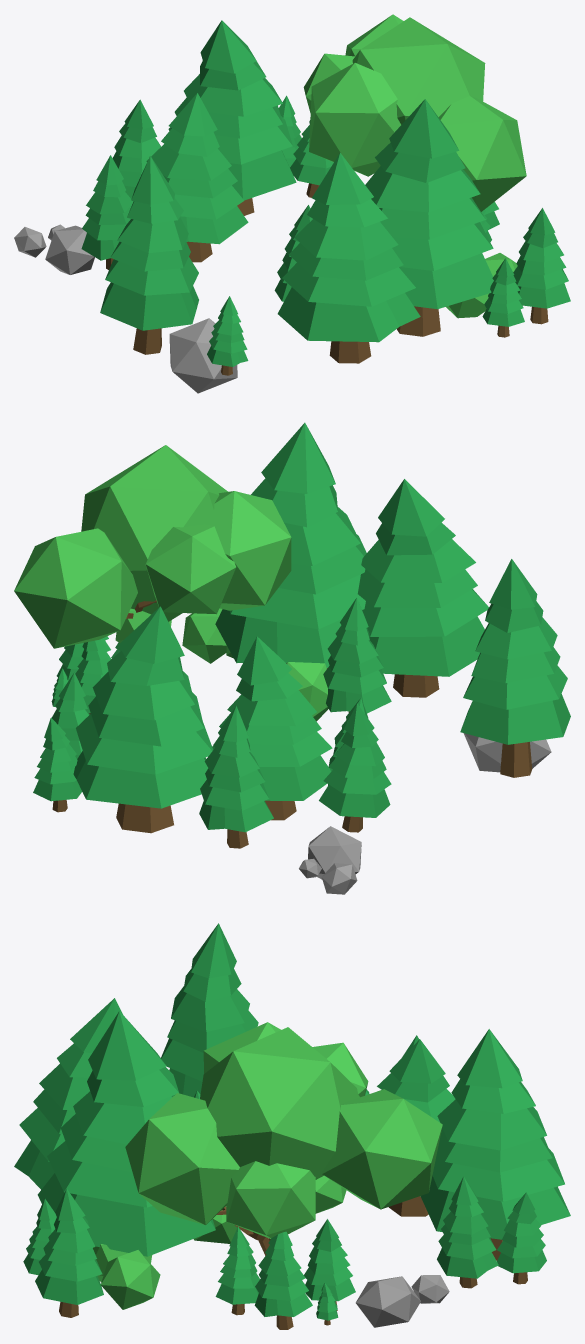
The model's file is forest2.glb.
The picture shows the model from 3 angles, top to bottom: view 1: azimuth 30°, elevation 25°; view 2: azimuth 150°, elevation 25°; view 3: azimuth 270°, elevation 25°; orthographic projection. The views are drawn at different scales.
Parts seen in each view (by area): view 1: Cylinder.075; view 2: Cylinder.075; view 3: Cylinder.075.
Part boxes in pixels (x1,y1,x2,y2): Cylinder.075: (14,14,570,393); Cylinder.075: (14,422,570,894); Cylinder.075: (14,923,570,1329).
Bounding box in the file's own units: 3.93 × 2.25 × 4.03.
